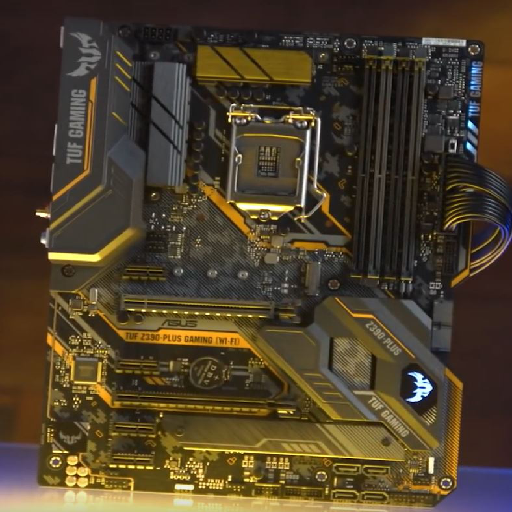CPU: (223, 114, 312, 222)
GPU: (120, 292, 302, 327), (110, 388, 302, 421)
MOTHERBOARD: (36, 15, 488, 503)
RAM: (348, 45, 429, 293)
SSD: (297, 258, 322, 298)
